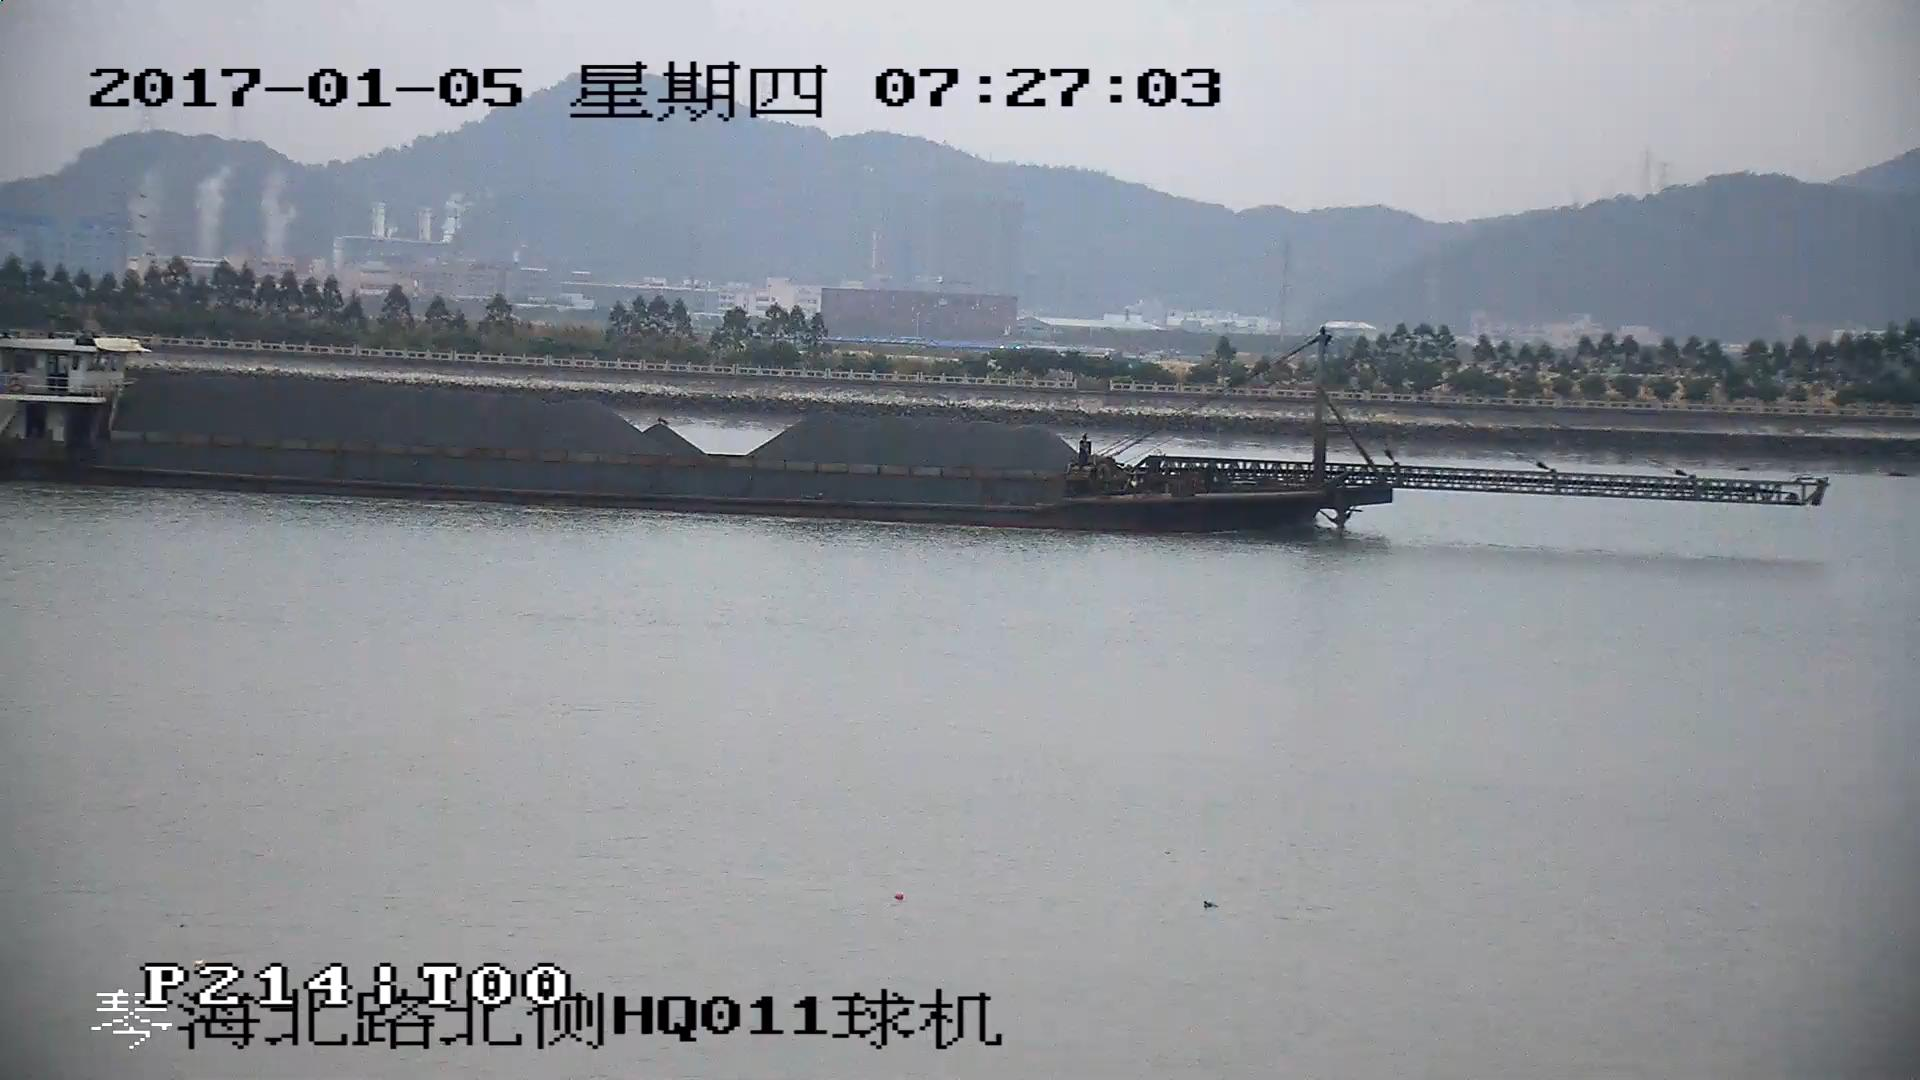ore carrier: (1, 339, 1816, 520)
